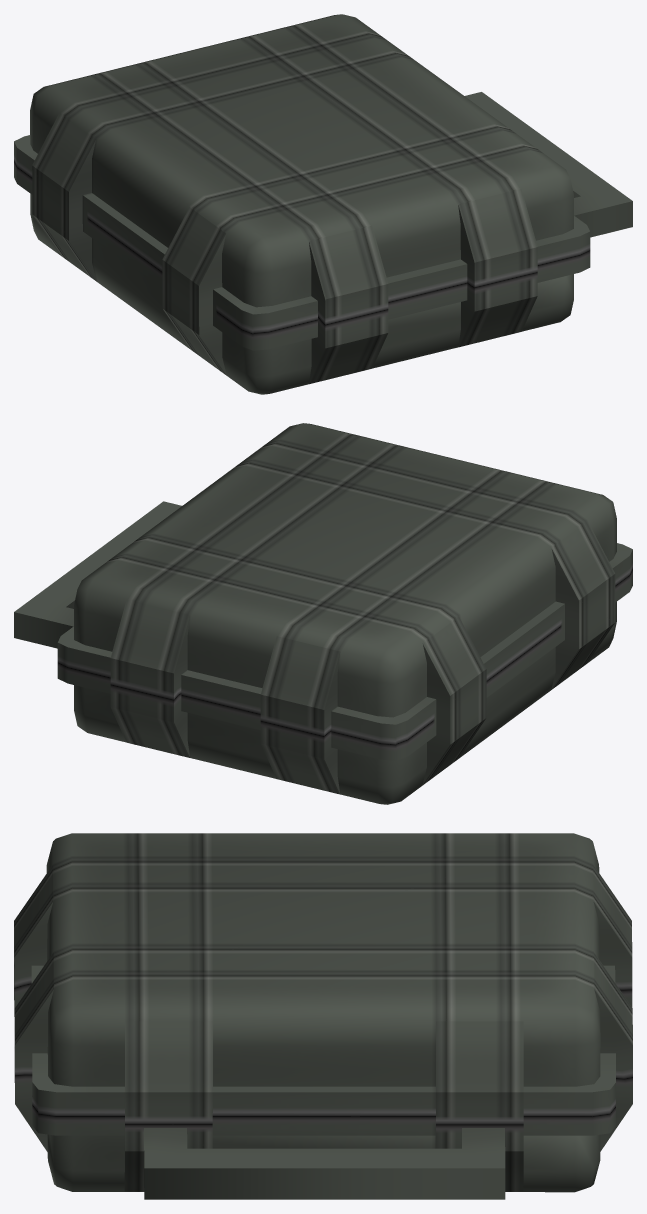
File: ProtectiveCaseSmall_Ground.fbx
The picture shows the model from 3 angles, top to bottom: view 1: azimuth 30°, elevation 25°; view 2: azimuth 150°, elevation 25°; view 3: azimuth 270°, elevation 25°; orthographic projection. The views are drawn at different scales.
Visible parts, largest first — view 1: ProtectiveCaseSmall_Ground; view 2: ProtectiveCaseSmall_Ground; view 3: ProtectiveCaseSmall_Ground.
Part boxes in pixels (left/top/right/bottom): ProtectiveCaseSmall_Ground: left=14, top=14, right=632, bottom=394; ProtectiveCaseSmall_Ground: left=14, top=423, right=632, bottom=804; ProtectiveCaseSmall_Ground: left=14, top=833, right=632, bottom=1199.
Size of the model in its own units: 1.56 by 0.529 by 1.57.
